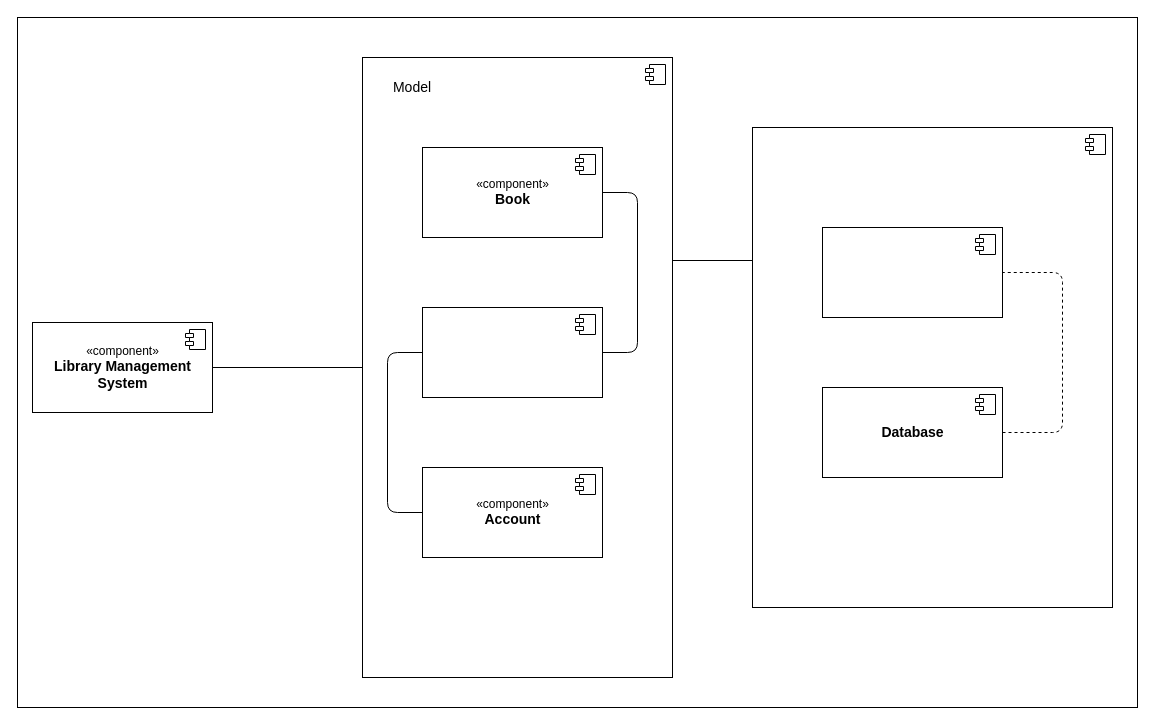
Image size: 1155x725. Some labels were removed from this diagram. The shapes that lost their labels are listed below. From the top down, each one's centre as x and y in pixels, then its label:
the point at 912,272: Persistance
the point at 512,352: «component» BookAccount
